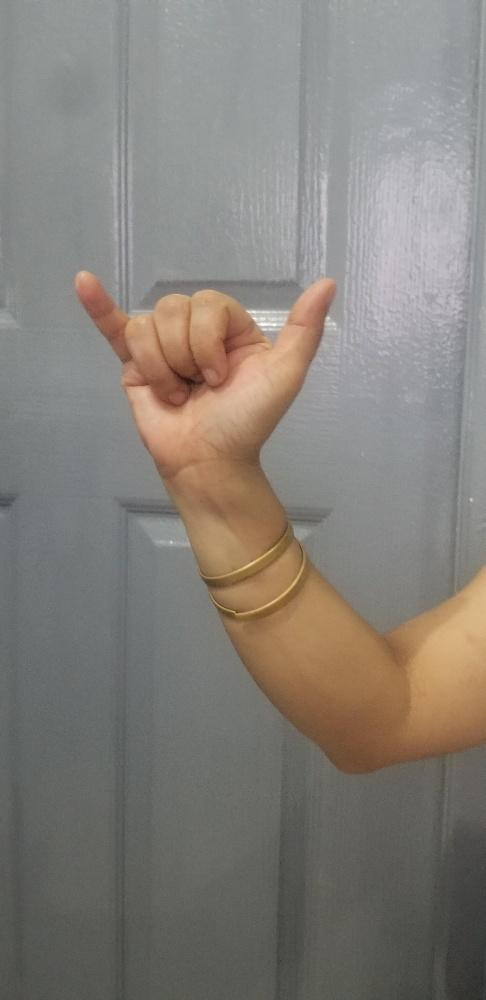y: (70, 266, 339, 460)
